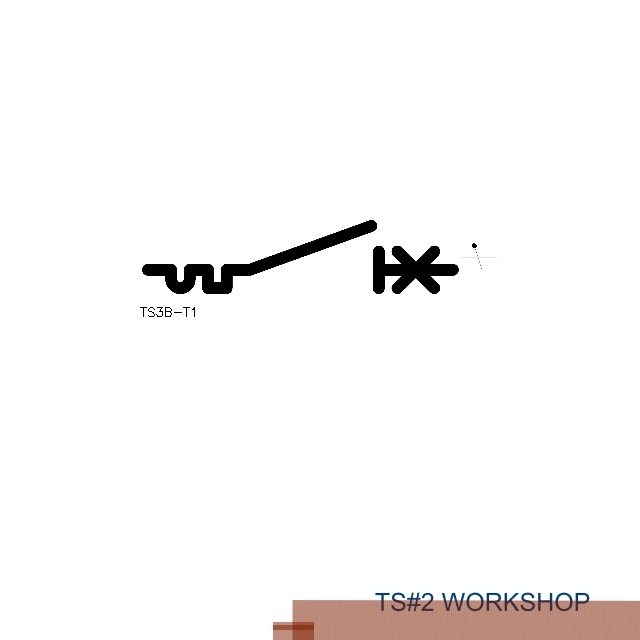interruptor_termomagnetico: (140, 218, 460, 296)
